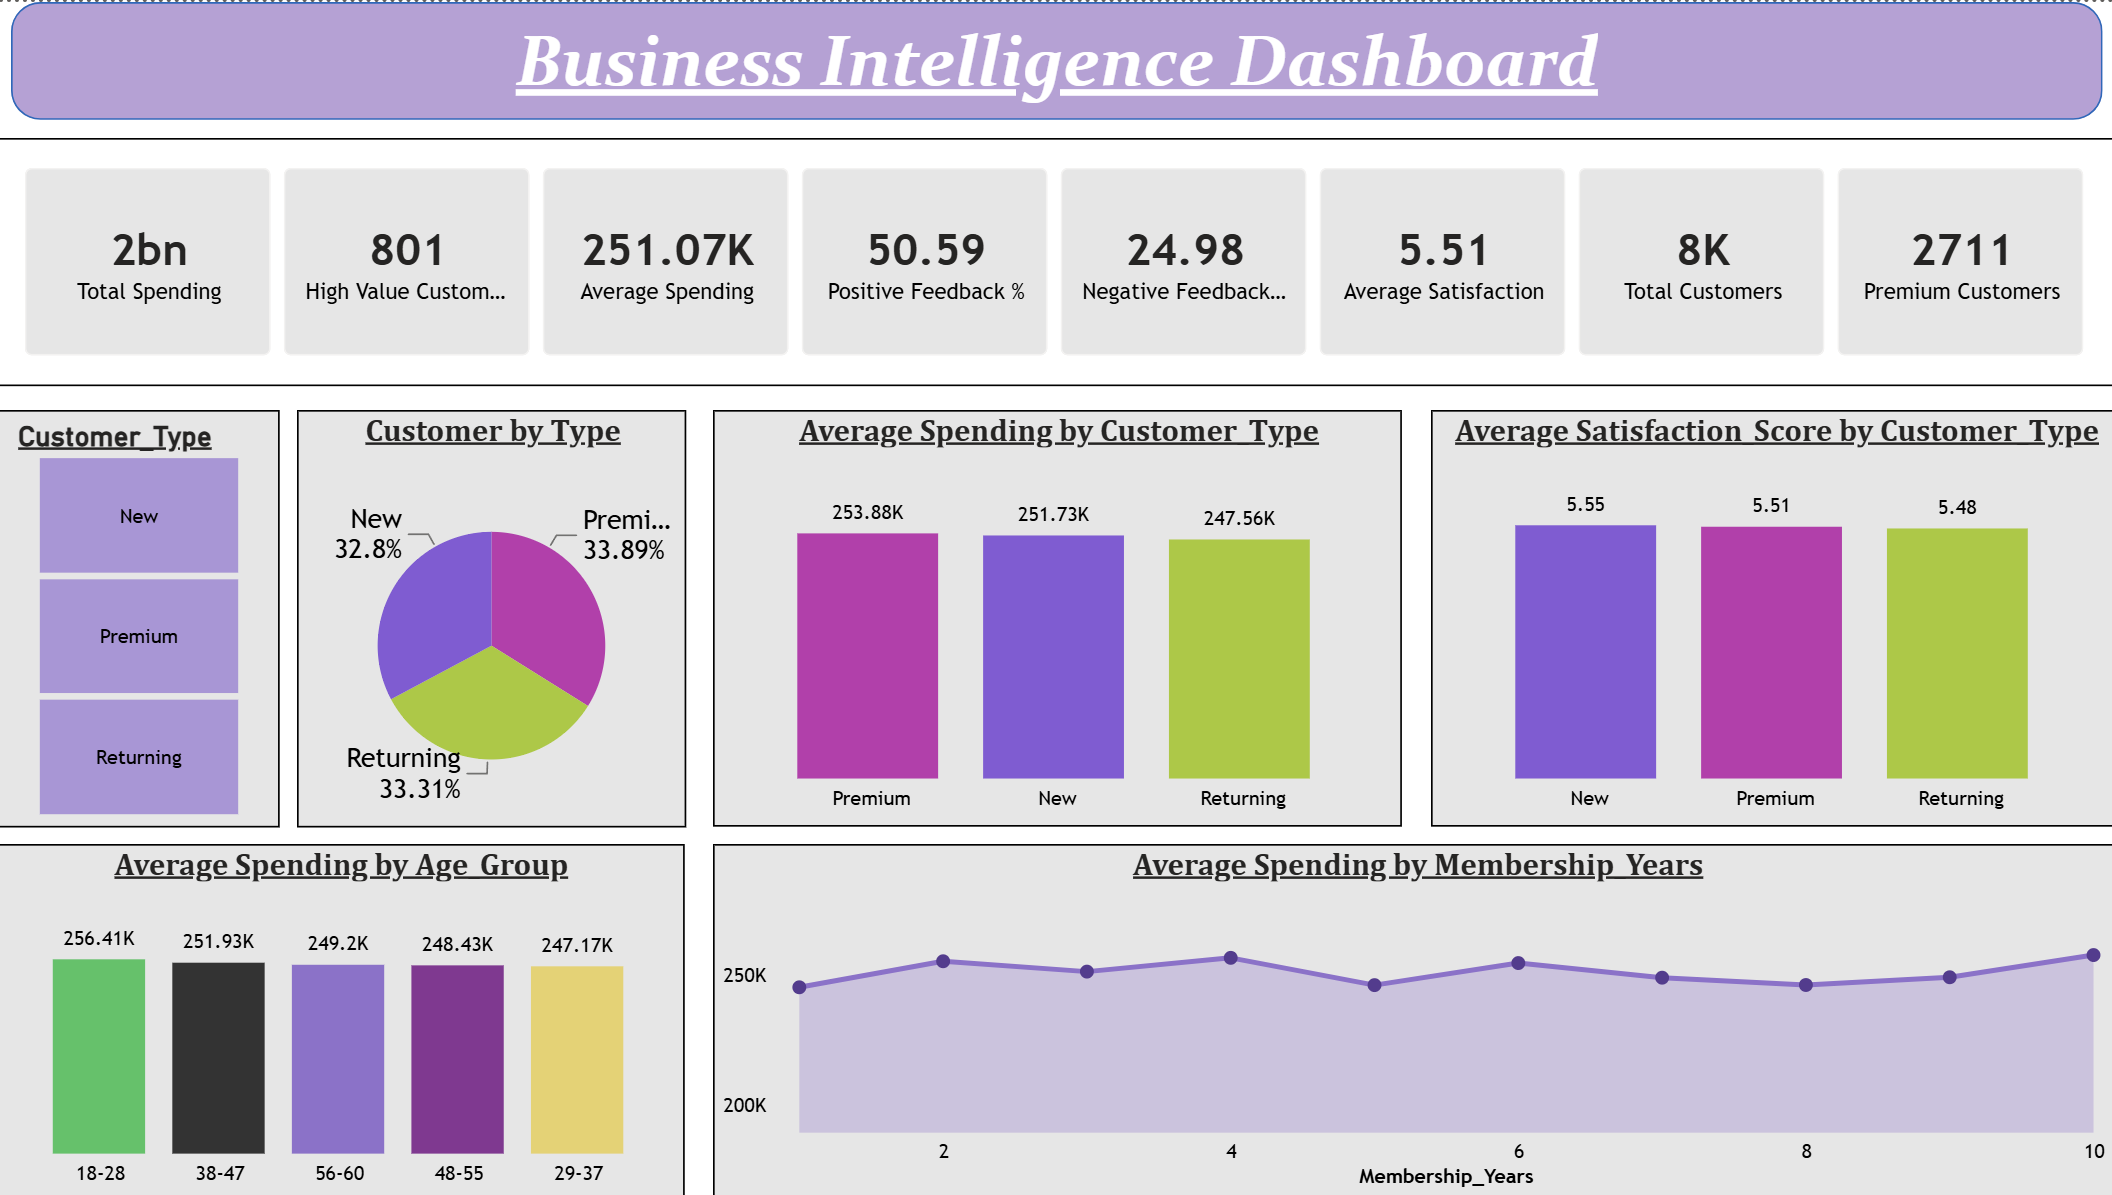

Layout of this report page (visuals, bound fields, positions):
{"tool":"powerbi","page":{"name":"L3 | T2-3","canvas":[1280,720],"ordinal":3},"visuals":[{"type":"shape","box":[10.2,0,1260,71],"z":0},{"type":"cardVisual","fields":{"Data":["Measures Table 2.Total Spending","Measures Table 2.High Value Customers","Measures Table 2.Average Spending","Measures Table 1.Positive %","Measures Table 1.Negative %","Measures Table 1.Average Satisfaction","Measures Table 1.Total Customers","Measures Table 1.Premium Customers"]},"box":[0,81.8,1280,149.4],"z":1000},{"type":"pieChart","title":"Customer by Type","fields":{"Category":["Customer.Customer_Type"],"Y":["Measures Table 1.Total Customers"]},"box":[181.4,245.7,234.3,251.4],"z":2000},{"type":"clusteredColumnChart","fields":{"Category":["Customer.Customer_Type"],"Y":["Measures Table 2.Average Spending"]},"box":[432.4,245.7,415,251],"z":3000},{"type":"columnChart","fields":{"Category":["Customer.Age_Group"],"Y":["Measures Table 2.Average Spending"]},"box":[0,507.3,415.3,215.5],"z":4000},{"type":"lineChart","fields":{"Category":["Customer.Membership_Years"],"Y":["Measures Table 2.Average Spending"]},"box":[432.4,507.3,847.6,212.9],"z":5000},{"type":"columnChart","title":"Average Satisfaction_Score by Customer_Type","fields":{"Category":["Customer.Customer_Type"],"Y":["Avg(Customer.Satisfaction_Score)"]},"box":[864.7,245.7,415,251],"z":6000},{"type":"slicer","fields":{"Values":["Customer.Customer_Type"]},"box":[0,245.7,171.4,251.4],"z":7000}]}

Visuals, with their boxes in screenshot pixels (x1, y1, x2, y2), scaled from the page's 1280x720 canvas onto the 2112x1195 screenshot:
shape: [17,0,2096,118]
cardVisual - Measures Table 2.Total Spending x Measures Table 2.High Value Customers: [0,136,2111,384]
"Customer by Type" pieChart: [299,408,686,825]
clusteredColumnChart - Customer.Customer_Type x Measures Table 2.Average Spending: [713,408,1398,824]
columnChart - Customer.Age_Group x Measures Table 2.Average Spending: [0,842,685,1194]
lineChart - Customer.Membership_Years x Measures Table 2.Average Spending: [713,842,2111,1194]
"Average Satisfaction_Score by Customer_Type" columnChart: [1427,408,2111,824]
slicer - Customer.Customer_Type: [0,408,283,825]
